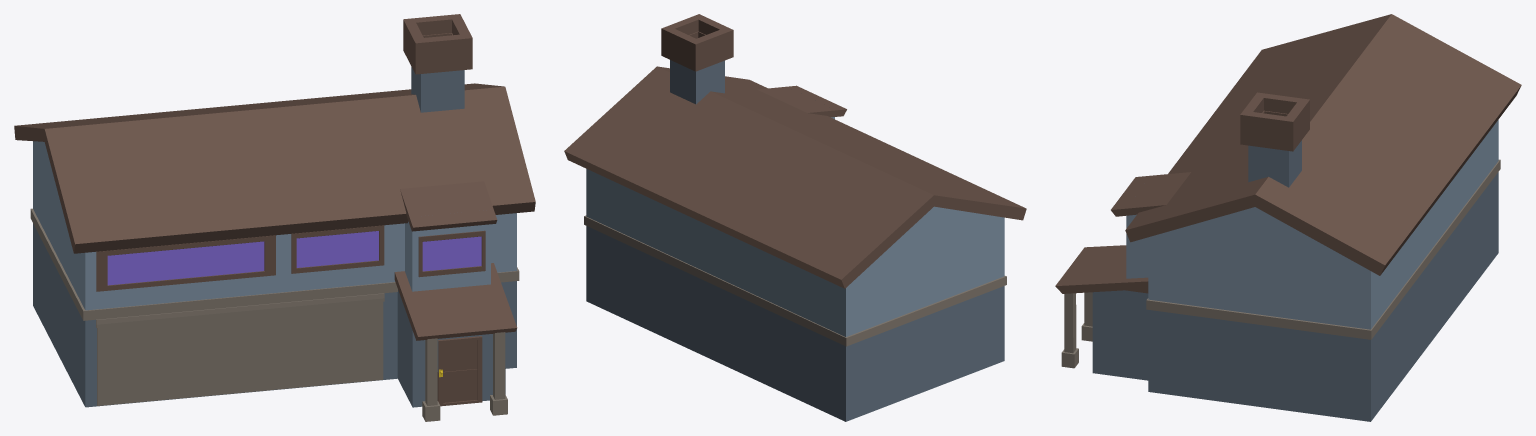
File: CALLE2_CASA_2_004.fbx
3 views of the same model, side by side, from view 1: azimuth 30°, elevation 25°; view 2: azimuth 150°, elevation 25°; view 3: azimuth 270°, elevation 25° (orthographic). The views are drawn at different scales.
Parts seen in each view (by area): view 1: CASA 2.004; view 2: CASA 2.004; view 3: CASA 2.004.
Boxes of the visible parts, box(x1,y1,x2,y2) form: CASA 2.004: box(14, 14, 535, 421); CASA 2.004: box(564, 14, 1026, 421); CASA 2.004: box(1055, 14, 1521, 421).
Size of the model in its own units: 1128 by 680 by 1031.
